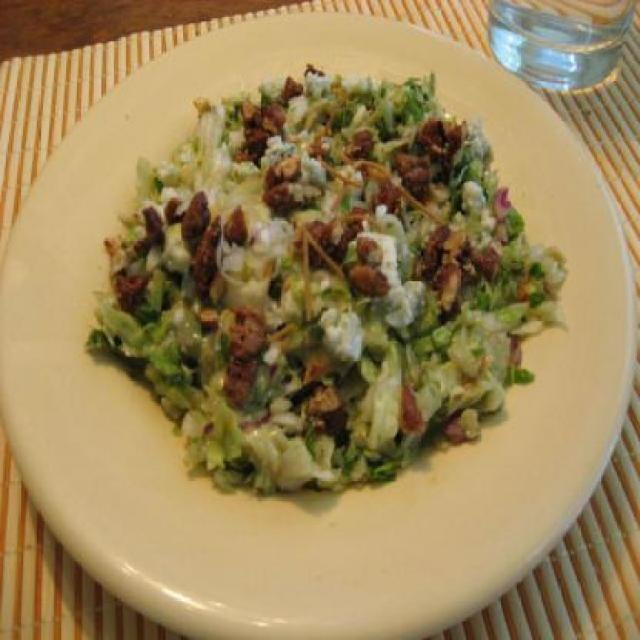Salad: (87, 52, 546, 502)
